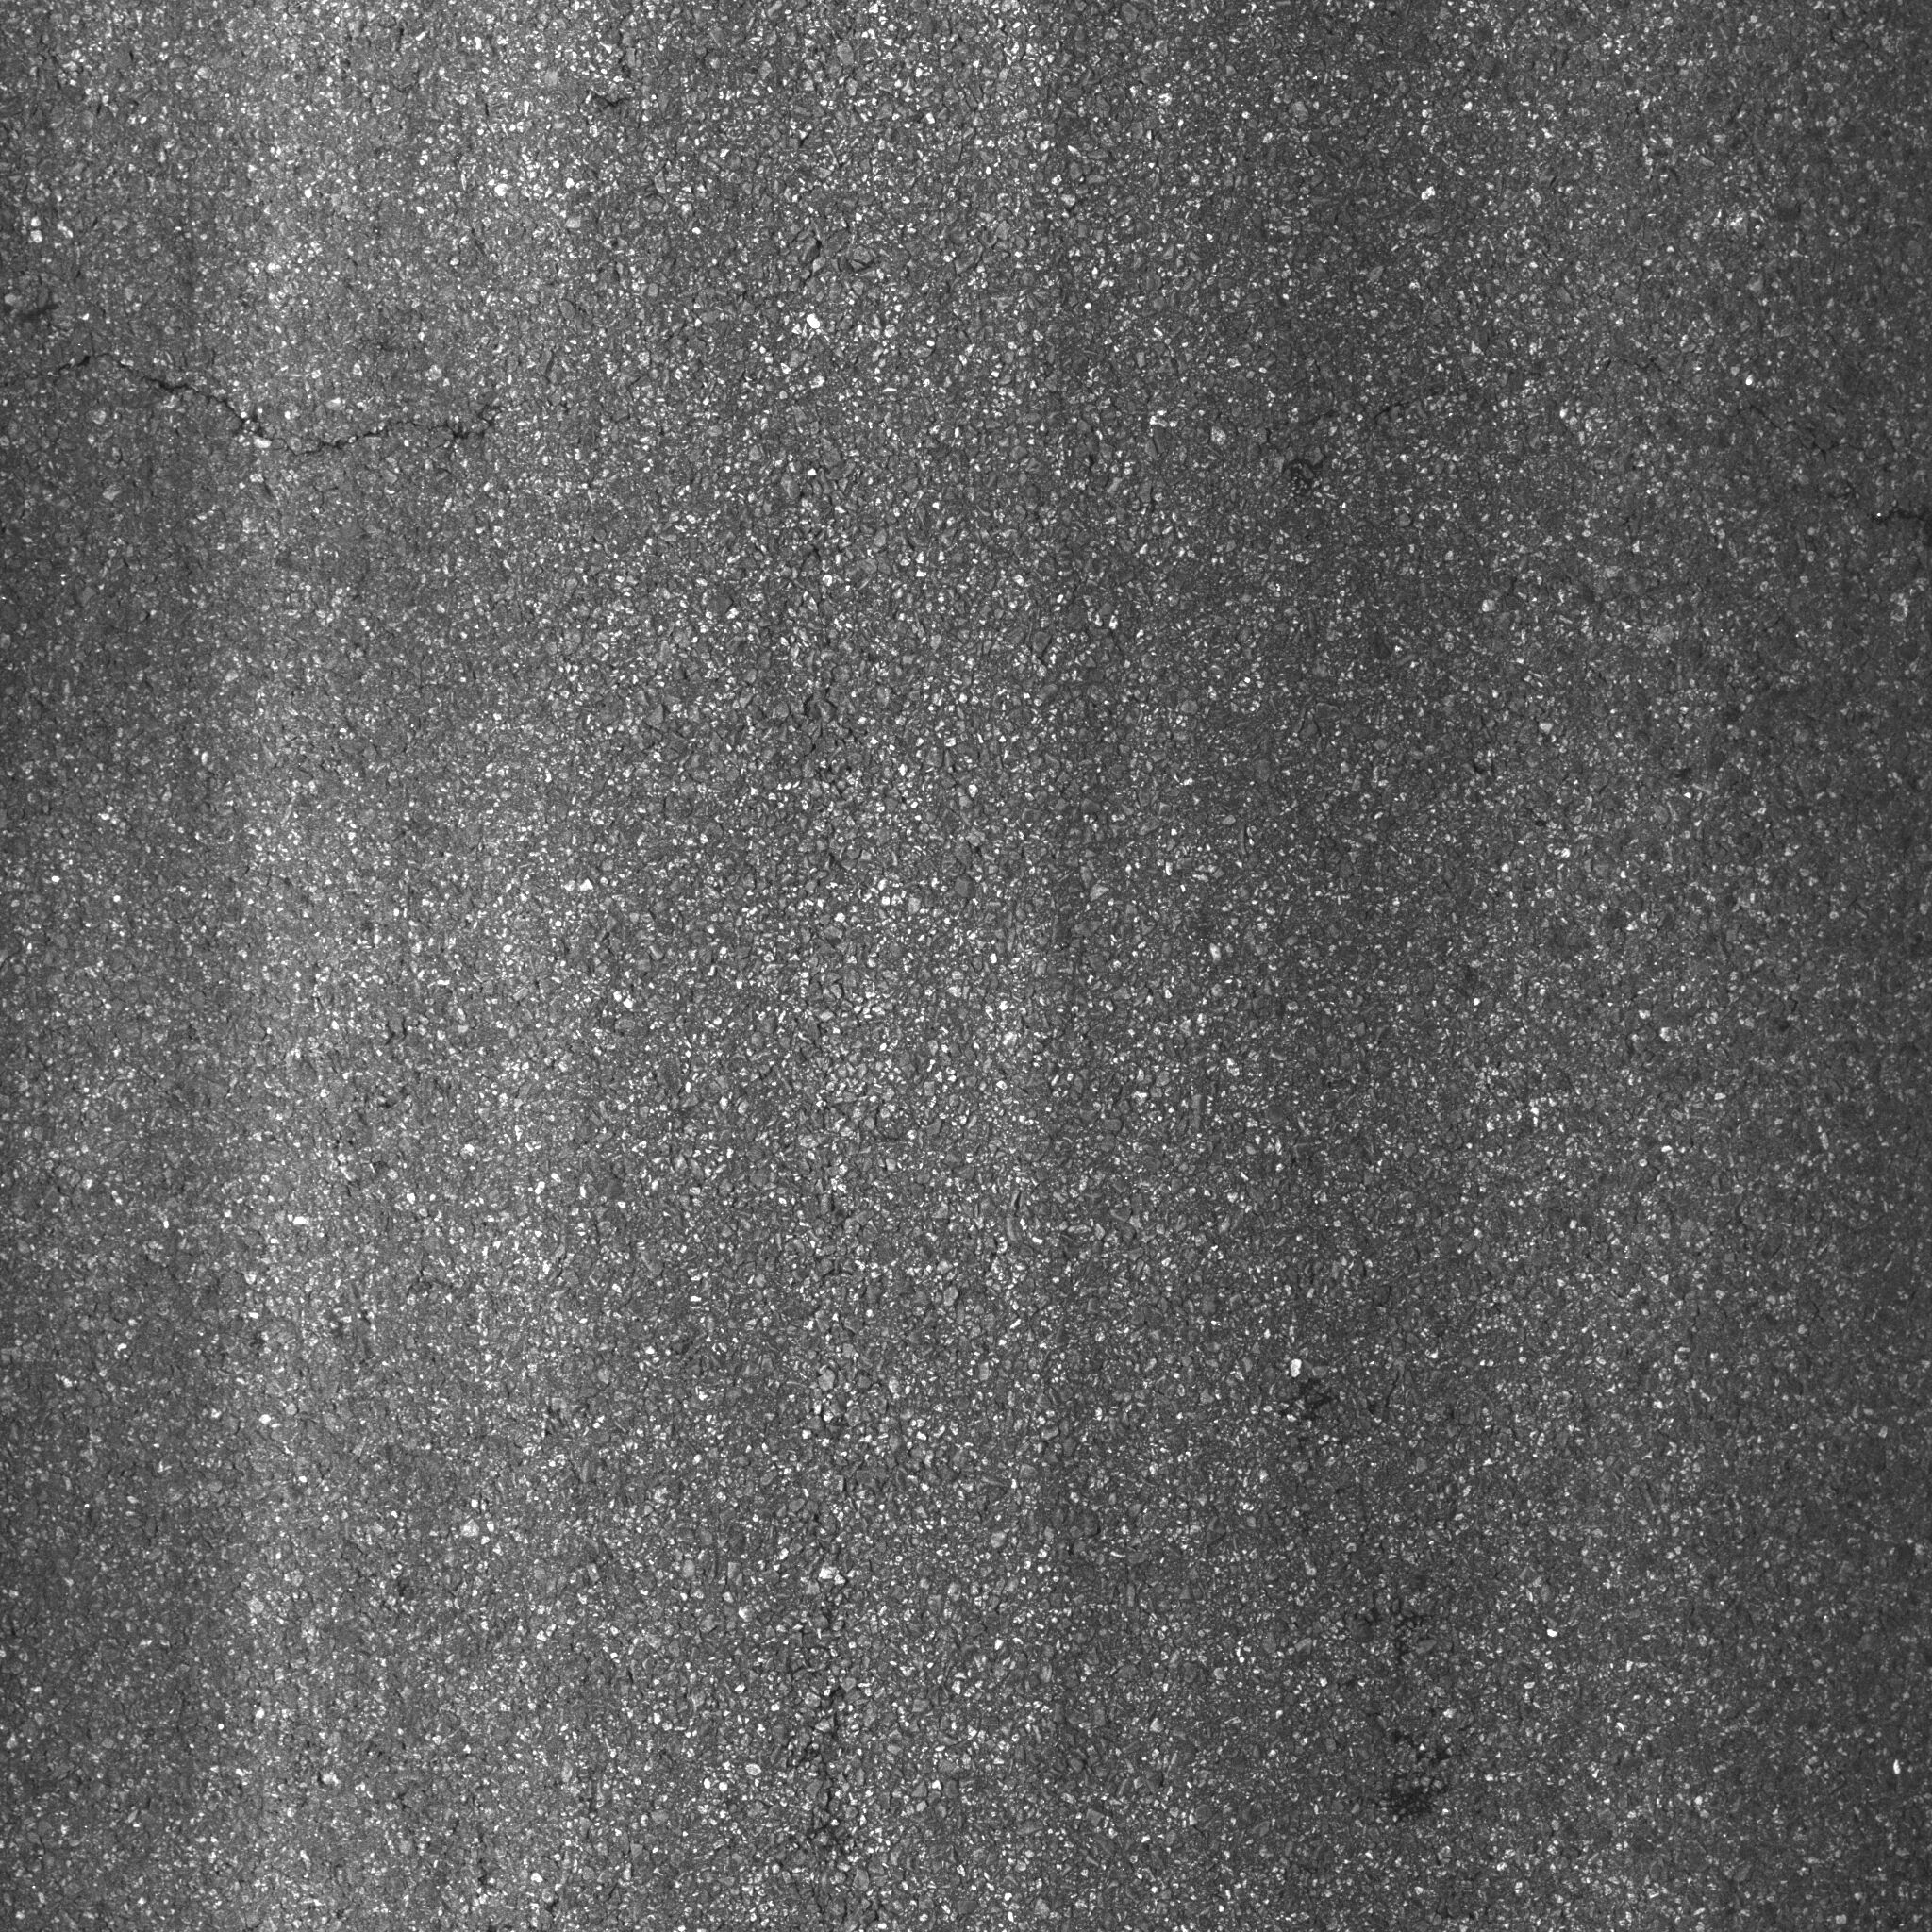transeverse: (18, 324, 517, 485)
